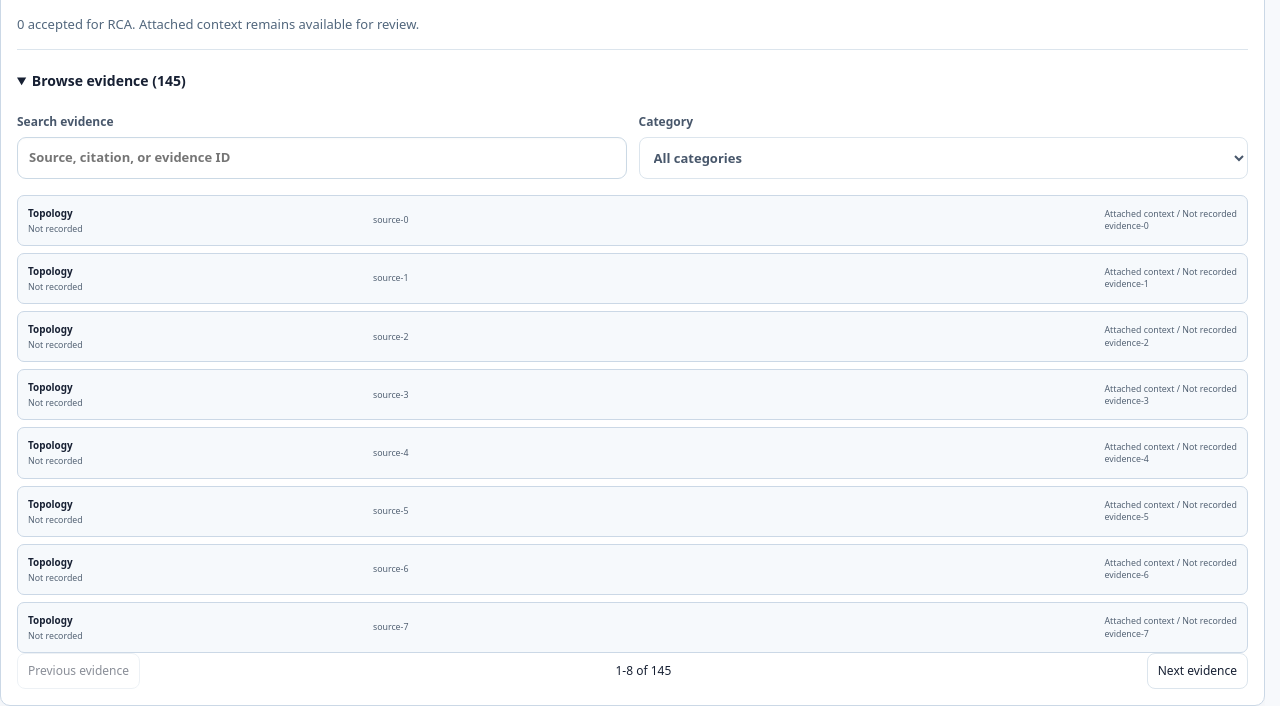
shows collected context immediately and paginates every record without dropping duplicates
(page scrolled)
Click the button "Next evidence".
click(1197, 671)  # box [1147, 653, 1248, 689]
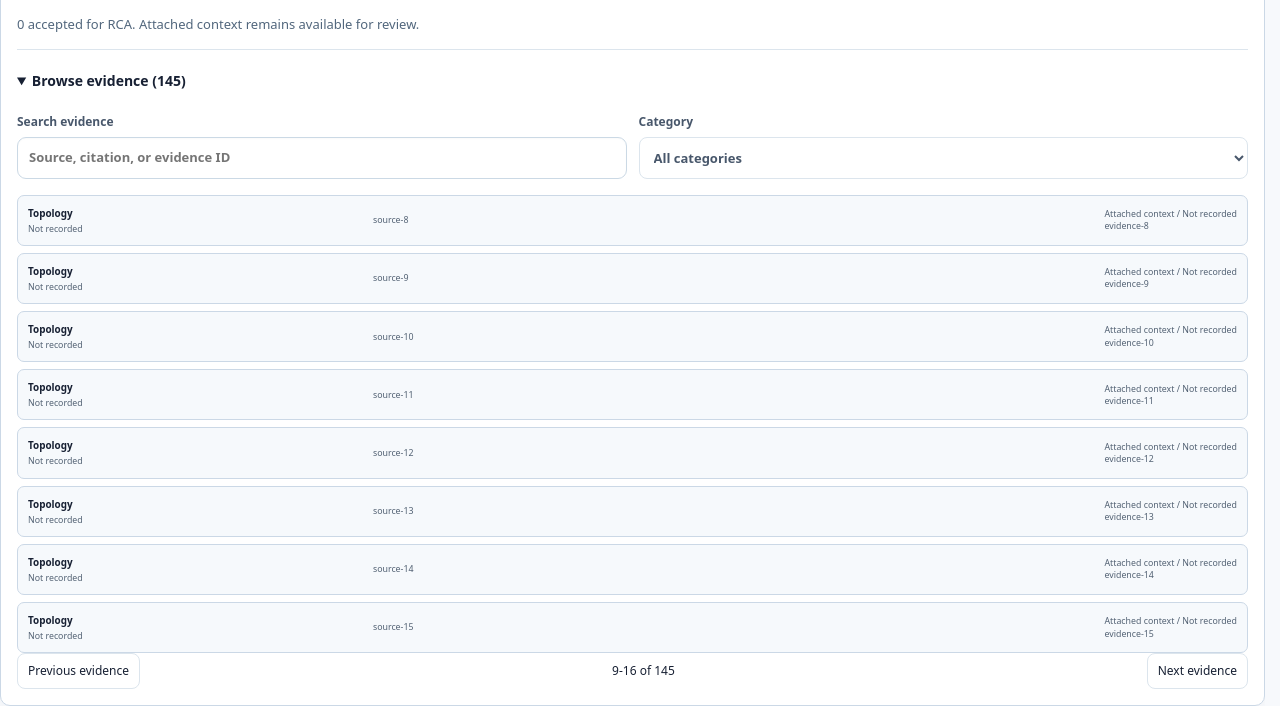
Check: the text "9-16 of 145" is shown, box [612, 662, 675, 680]
